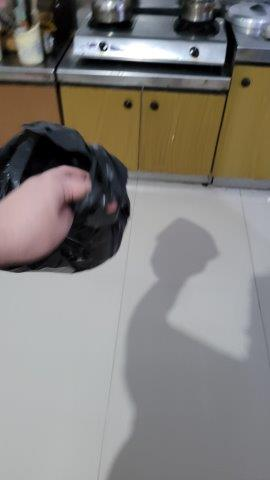plastik: (1, 116, 131, 277)
